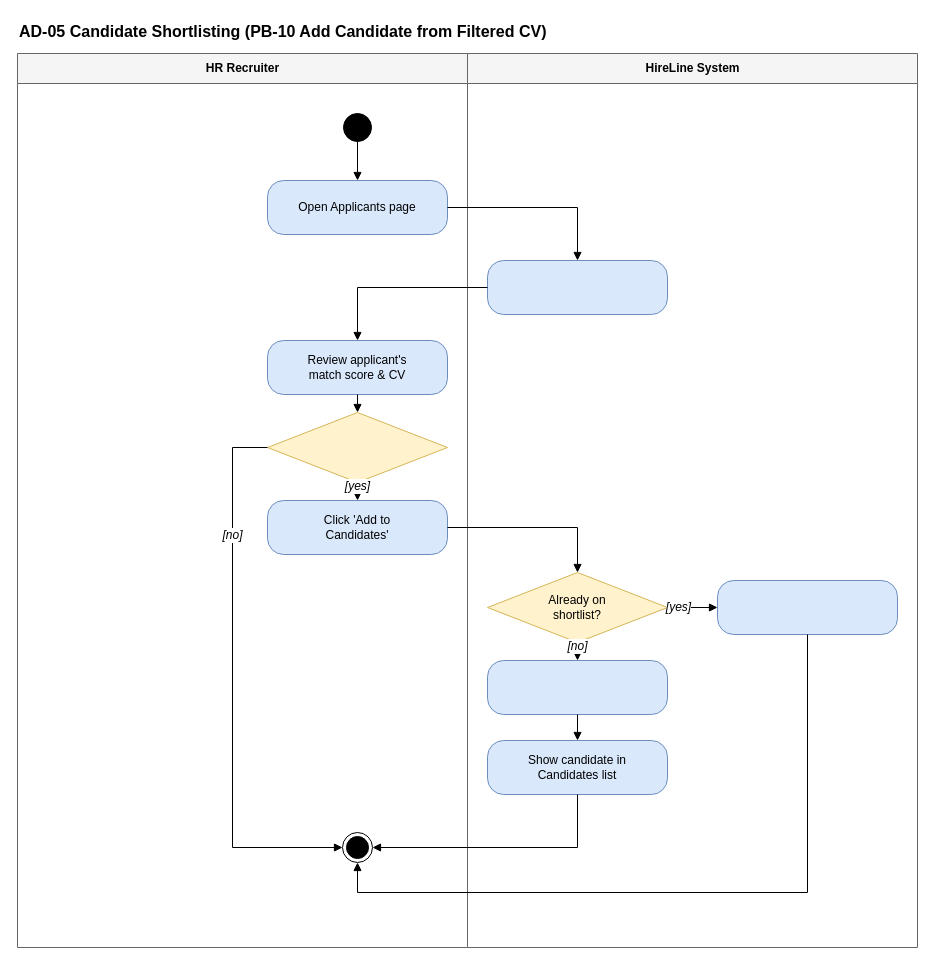
Some shapes in this 935 by 965 pixel diagram are drawn without their labels. Here are the shapes that lost their labels. From the top down, the centre of each, then its label:
the point at 577,287: Show filtered CVs (ranked by AI Match %)
the point at 357,447: Suitable candidate?
the point at 807,607: Show 'Already on the shortlist'
the point at 577,687: Copy applicant into candidates list (PB-10)
